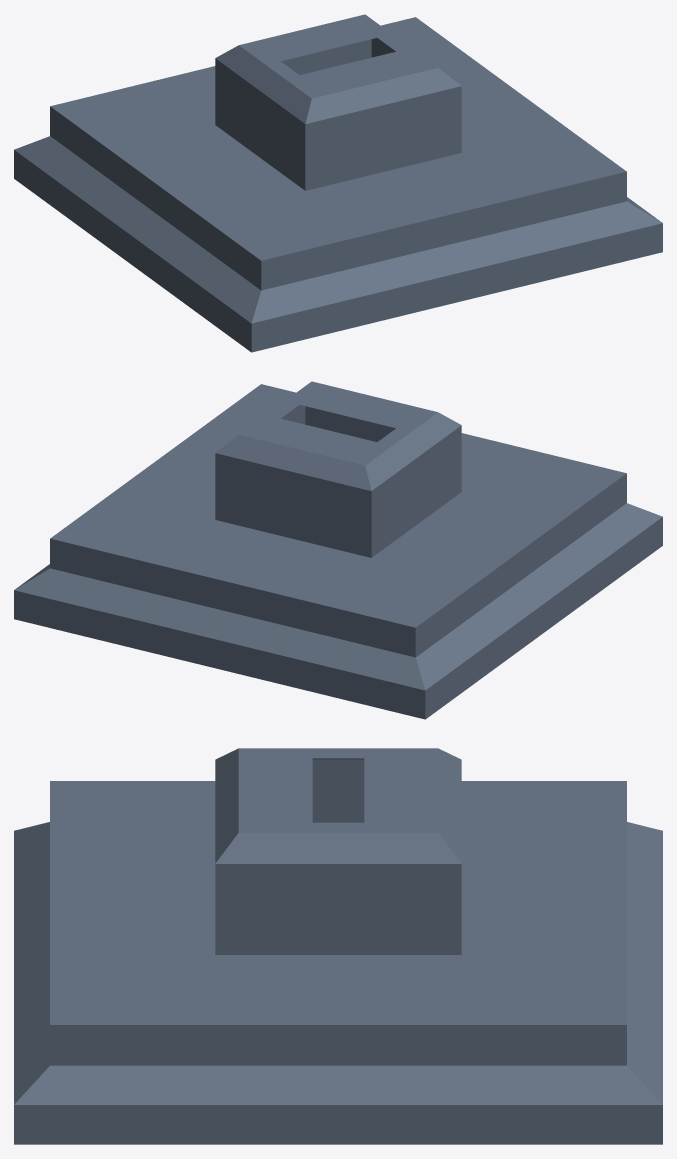
File: RMirror_ButtonBase.fbx
3 renders of one model, top to bottom at view 1: azimuth 30°, elevation 25°; view 2: azimuth 150°, elevation 25°; view 3: azimuth 270°, elevation 25°, orthographic. The views are drawn at different scales.
Parts seen in each view (by area): view 1: Plane; view 2: Plane; view 3: Plane.
Part boxes in pixels (x1,y1,x2,y2): Plane: [14, 14, 662, 352]; Plane: [14, 381, 662, 719]; Plane: [14, 748, 662, 1144].
Size of the model in its own units: 200 by 73.84 by 200.
